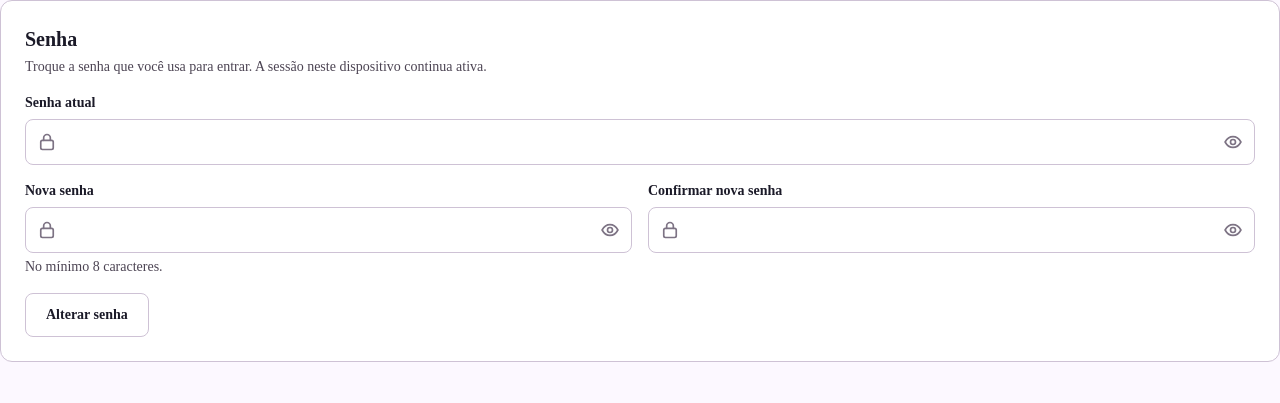
Test: ChangePasswordForm (VES-92) › shows a wrong current password next to its field
Type "errada" into the password field labelled "Senha atual" at [640, 142], box [25,119,1255,165]
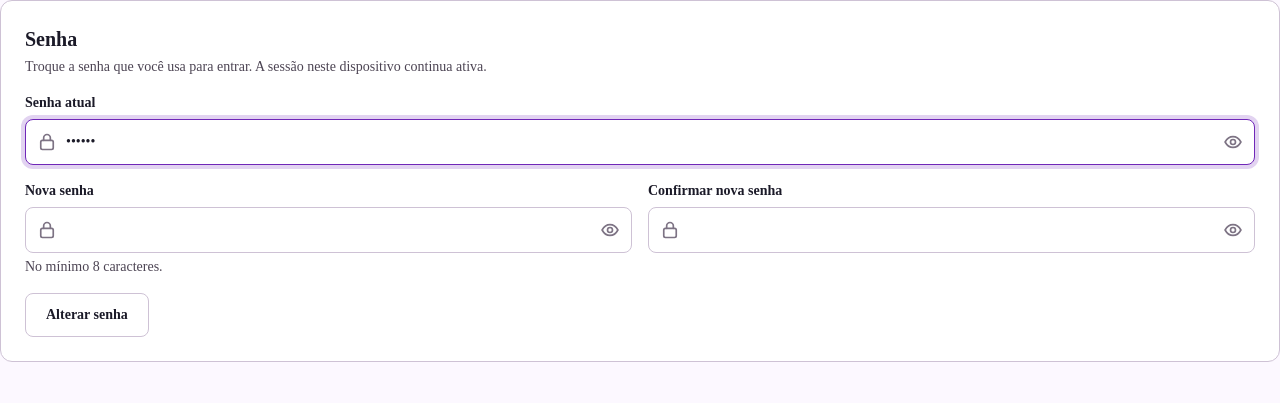
Type "nova-senha-1" into the password field labelled "Nova senha" at [328, 230], box [25,207,632,253]
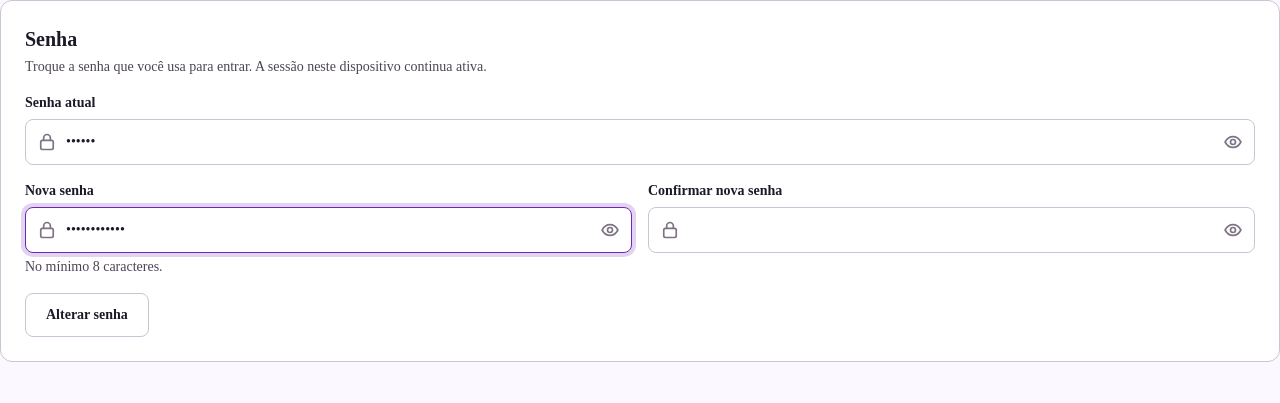
Type "nova-senha-1" into the password field labelled "Confirmar nova senha" at [952, 230], box [648,207,1255,253]
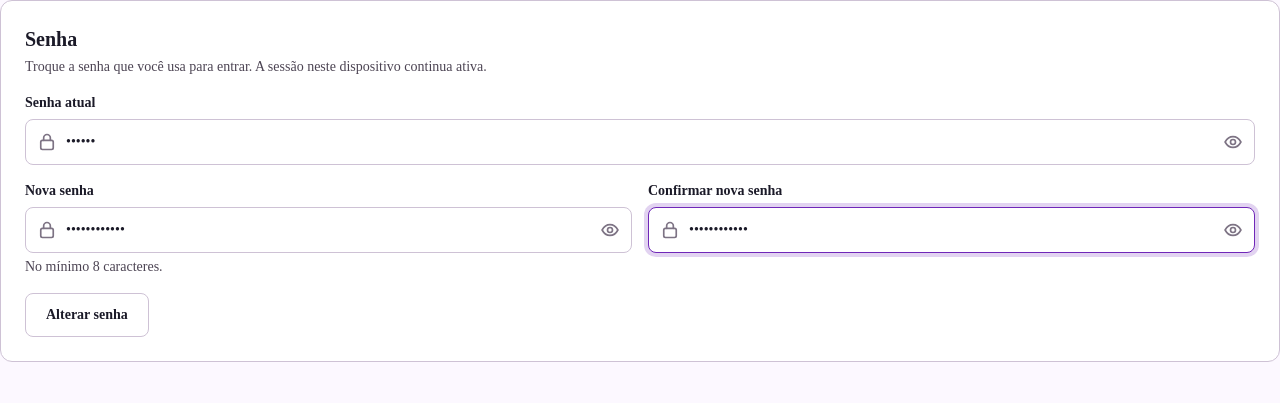
Click the button "Alterar senha" at [87, 315], box [25,293,149,337]
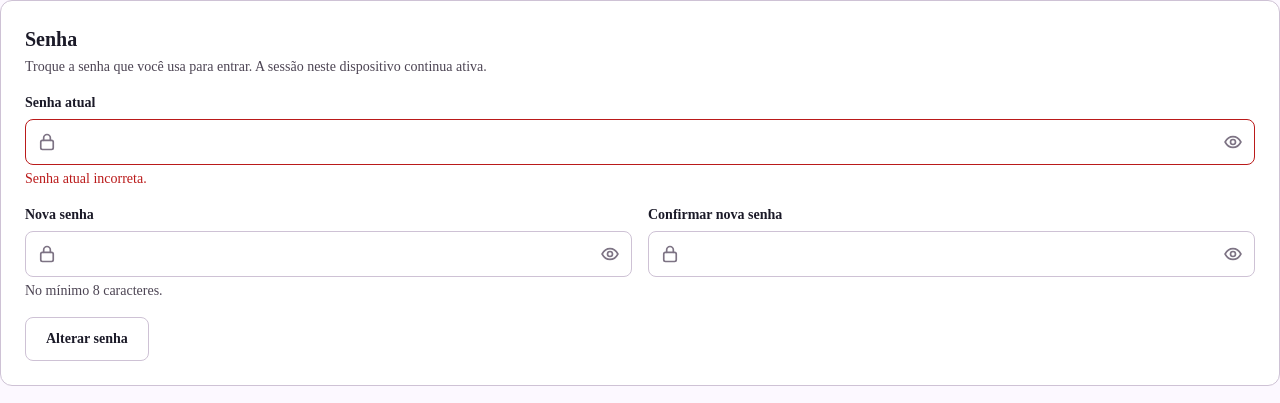
expect the text "Senha atual incorreta." is shown: met, box [25,171,147,186]
